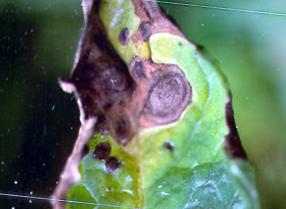Tomato Early blight leaf: (46, 0, 283, 209)
